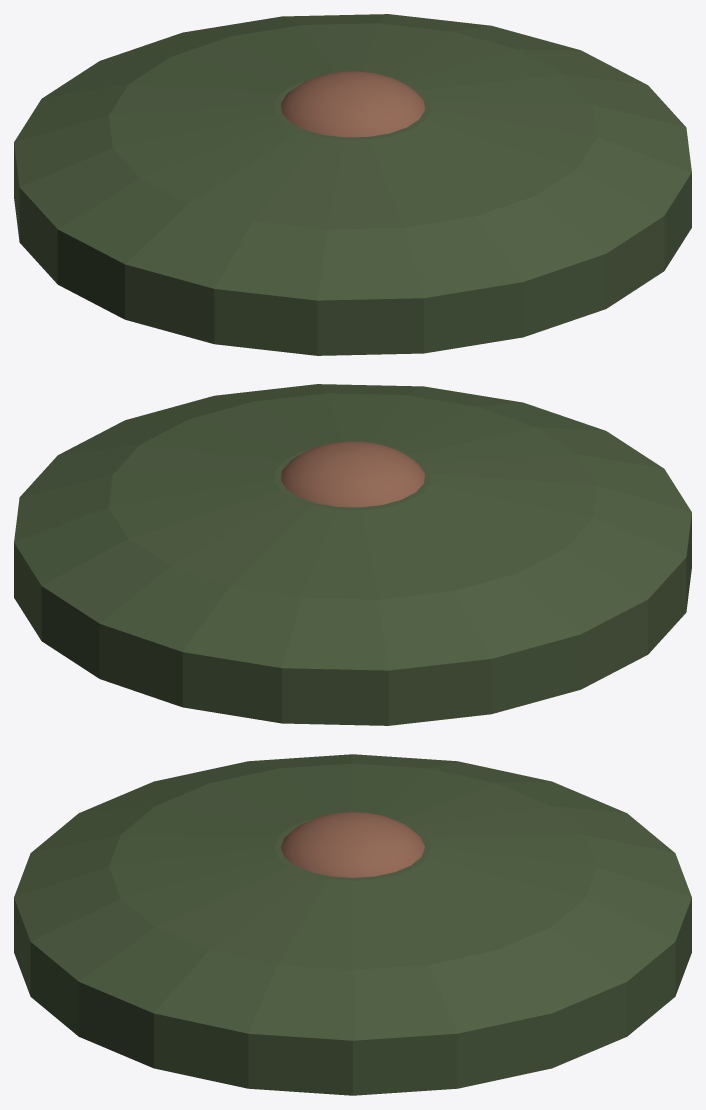
The model's file is dilei.fbx.
3 renders of one model, top to bottom at view 1: azimuth 30°, elevation 25°; view 2: azimuth 150°, elevation 25°; view 3: azimuth 270°, elevation 25°, orthographic.
Visible parts, largest first — view 1: pCylinder1, pSphere1; view 2: pCylinder1, pSphere1; view 3: pCylinder1, pSphere1.
Part boxes in pixels (left/top/right/bottom): pCylinder1: left=14, top=14, right=691, bottom=355; pSphere1: left=281, top=71, right=424, bottom=137; pCylinder1: left=14, top=384, right=691, bottom=725; pSphere1: left=281, top=441, right=424, bottom=507; pCylinder1: left=14, top=754, right=691, bottom=1095; pSphere1: left=281, top=812, right=424, bottom=877.
Bounding box in the file's own units: 1.5 × 0.3144 × 1.5.
